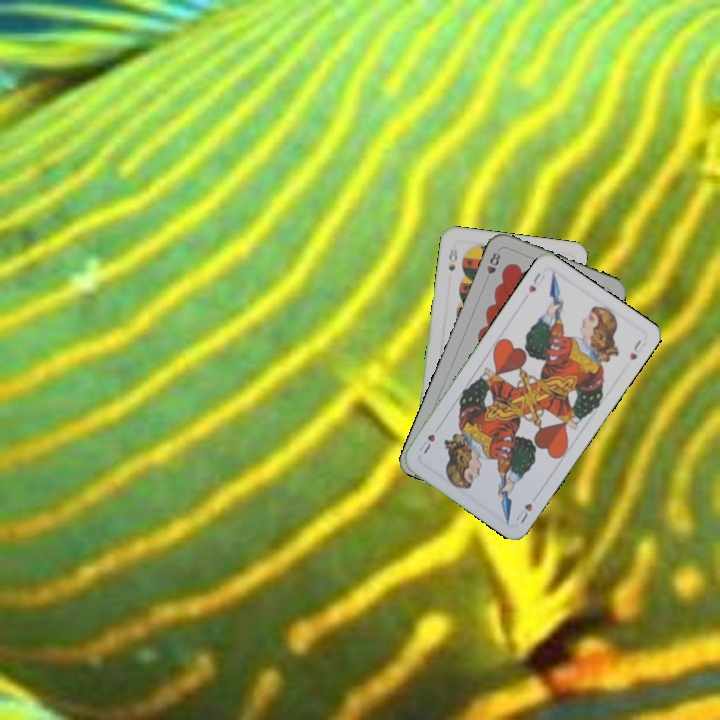H8: (481, 248, 503, 285)
HU: (524, 268, 548, 296), (512, 499, 535, 526)
S8: (444, 244, 460, 273)
